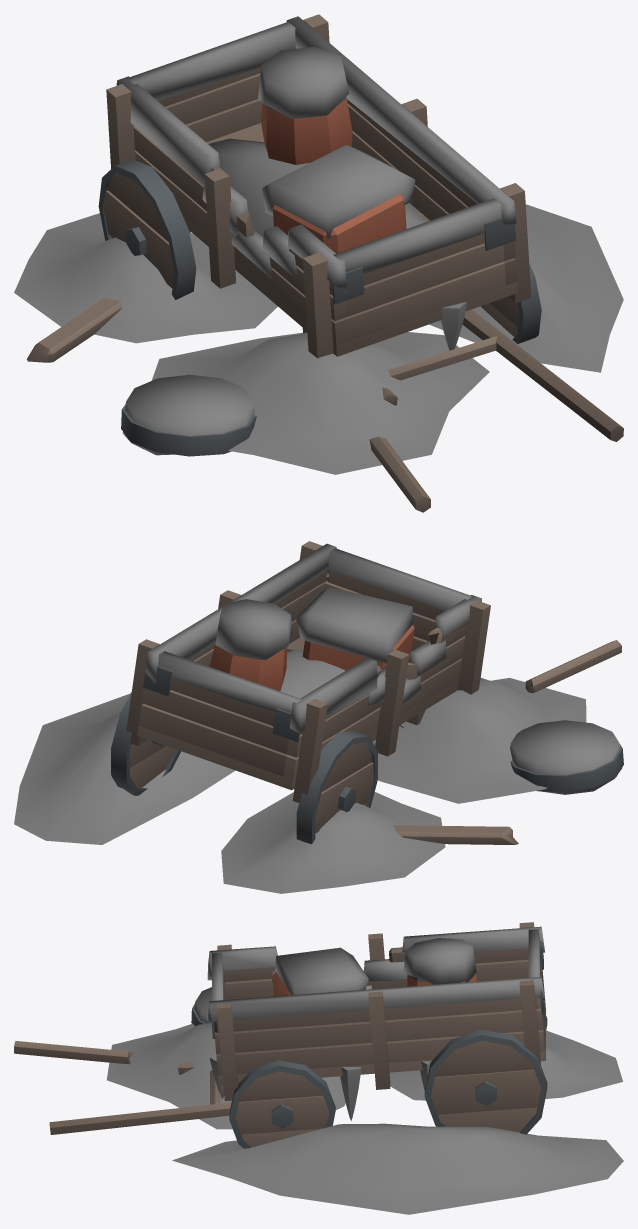
File: cart_frozen_A_blue.fbx
3 views of the same model, one above another, from view 1: azimuth 30°, elevation 25°; view 2: azimuth 150°, elevation 25°; view 3: azimuth 270°, elevation 25° (orthographic). The views are drawn at different scales.
Visible parts, largest first — view 1: cart_frozen_A_blue; view 2: cart_frozen_A_blue; view 3: cart_frozen_A_blue.
Part boxes in pixels (x1,y1,x2,y2): cart_frozen_A_blue: (14,14,623,512); cart_frozen_A_blue: (14,541,623,893); cart_frozen_A_blue: (14,922,623,1214).
Bounding box in the file's own units: 2.49 × 0.9924 × 2.98.
